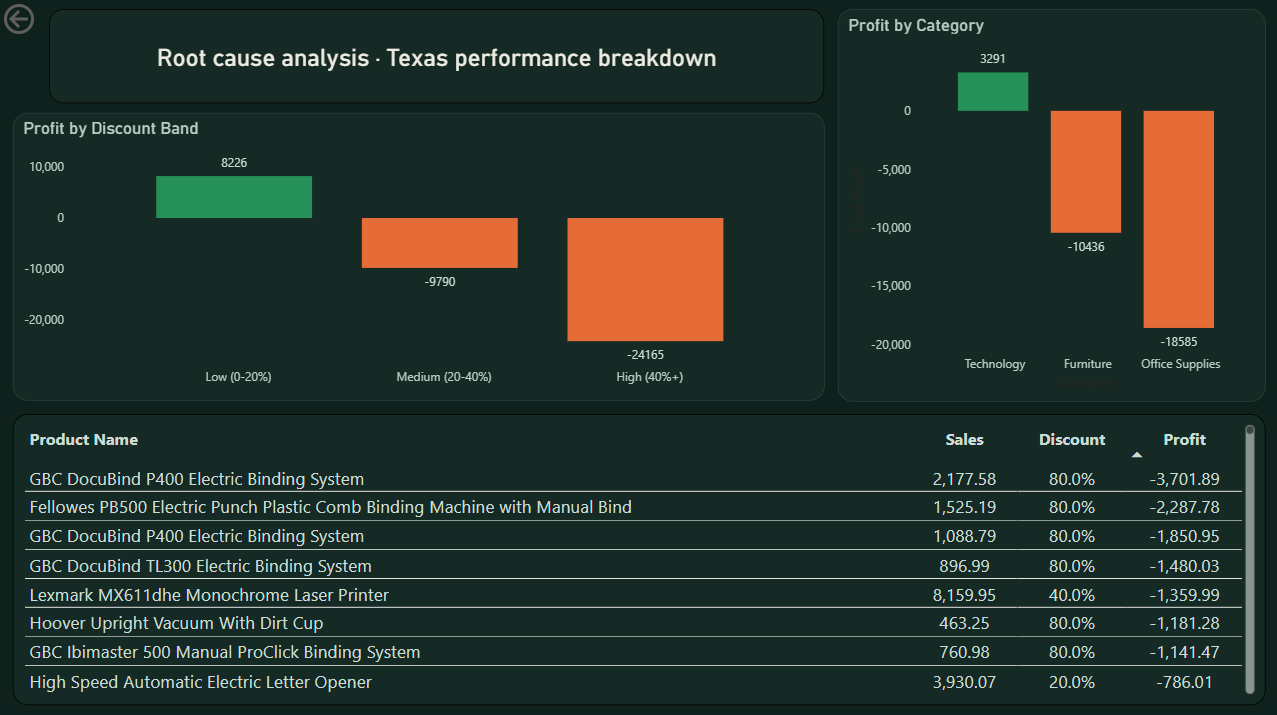

This screenshot's page, from the dashboard's own definition file:
{"tool":"powerbi","page":{"name":"State Details","canvas":[1280,720],"ordinal":2},"visuals":[{"type":"actionButton","box":[0,0,100,40],"z":0},{"type":"card","fields":{"Values":["_Measures.Selected State Heading"]},"box":[49.4,9.6,775.3,94.7],"z":1000},{"type":"clusteredColumnChart","title":"Profit by Category","fields":{"Category":["Superstore_Cleaned.Category"],"Y":["_Measures.Total Profit"]},"box":[838.4,9.6,428.1,392.5],"z":2000},{"type":"clusteredColumnChart","title":"Profit by Discount Band","fields":{"Y":["_Measures.Total Profit"],"Category":["Superstore_Cleaned.Discount Band"]},"box":[13.7,113.9,812.4,288.2],"z":3000},{"type":"tableEx","fields":{"Values":["Superstore_Cleaned.Product Name","Superstore_Cleaned.Sales","Superstore_Cleaned.Discount","Superstore_Cleaned.Profit"]},"box":[13.7,414.4,1252.8,290.9],"z":4000}]}

Visuals, with their boxes in screenshot pixels (x1, y1, x2, y2), scaled from the page's 1280x720 canvas onto the 1277x715 screenshot:
actionButton: locate(0, 0, 100, 40)
card - _Measures.Selected State Heading: locate(49, 10, 823, 104)
"Profit by Category" clusteredColumnChart: locate(836, 10, 1264, 399)
"Profit by Discount Band" clusteredColumnChart: locate(14, 113, 824, 399)
tableEx - Superstore_Cleaned.Product Name x Superstore_Cleaned.Sales: locate(14, 412, 1264, 700)
